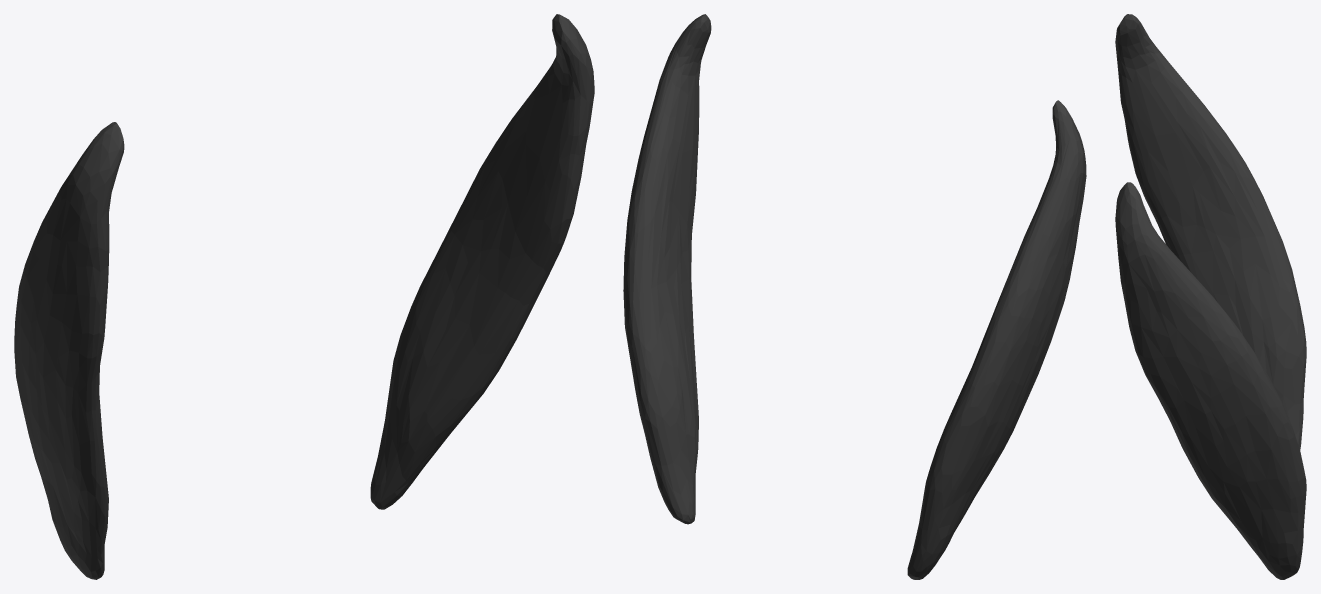
Rendered from m_deltoid_pars_scapularis.glb.
3 renders of one model, left to right at view 1: azimuth 30°, elevation 25°; view 2: azimuth 150°, elevation 25°; view 3: azimuth 270°, elevation 25°, orthographic. The views are drawn at different scales.
Parts seen in each view (by area): view 1: m_deltoid_pars_scapularis; view 2: m_deltoid_pars_scapularis; view 3: m_deltoid_pars_scapularis.
Boxes of the visible parts, x1=… form: m_deltoid_pars_scapularis: x1=14, y1=14, x2=594, y2=579; m_deltoid_pars_scapularis: x1=623, y1=14, x2=1086, y2=579; m_deltoid_pars_scapularis: x1=1115, y1=14, x2=1306, y2=579.
Size of the model in its own units: 0.00476 by 0.00474 by 0.00193.
Materials: 1 (1 with a texture image).
